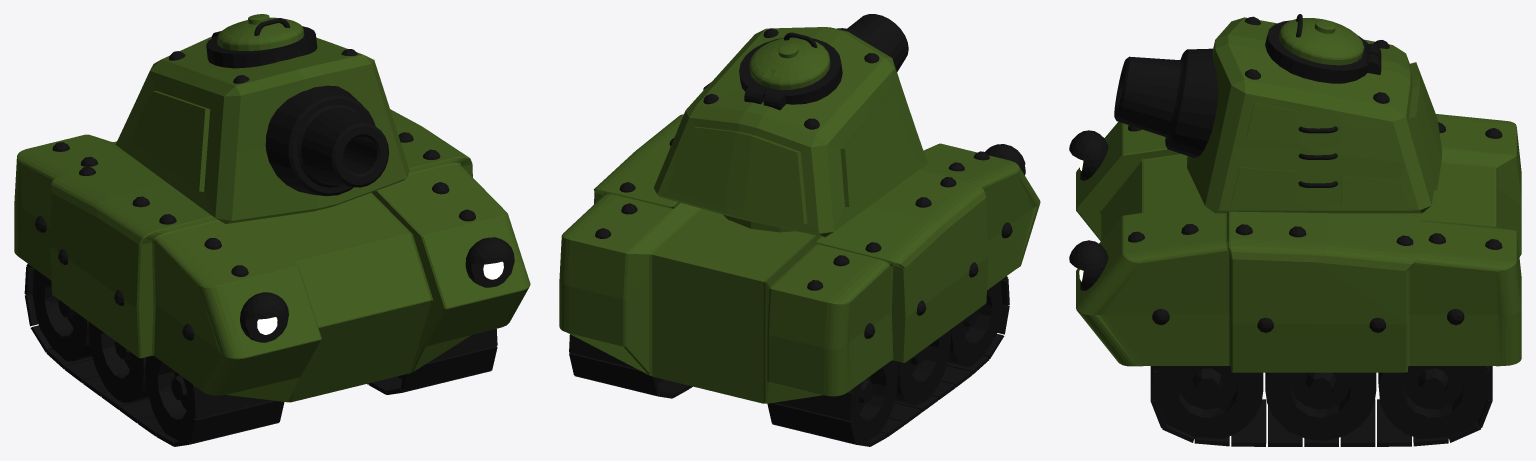
Rendered from tank_1_green.gltf.
3 renders of one model, left to right at view 1: azimuth 30°, elevation 25°; view 2: azimuth 150°, elevation 25°; view 3: azimuth 270°, elevation 25°, orthographic. The views are drawn at different scales.
Visible parts, largest first — view 1: Base.018, Turret.018, Canon.018, Tracks.017, Wheels.032, Entrance.018, Lights.010, Bolts.009; view 2: Base.018, Turret.018, Tracks.017, Wheels.032, Entrance.018, Bolts.009, Canon.018, Lights.010, Bolts.010; view 3: Base.018, Turret.018, Wheels.032, Canon.018, Entrance.018, Tracks.017, Lights.010, Bolts.009, Ladder.017, Bolts.010.
Boxes of the visible parts, x1,y1,x2,y2 form: Base.018: [14, 109, 530, 402]; Turret.018: [115, 36, 409, 223]; Canon.018: [265, 85, 388, 196]; Tracks.017: [24, 264, 497, 446]; Wheels.032: [32, 269, 403, 441]; Entrance.018: [206, 14, 317, 68]; Lights.010: [240, 237, 514, 342]; Bolts.009: [35, 132, 475, 340]; Base.018: [559, 114, 1040, 403]; Turret.018: [653, 27, 927, 237]; Tracks.017: [569, 276, 1009, 446]; Wheels.032: [656, 280, 1002, 441]; Entrance.018: [739, 32, 842, 110]; Bolts.009: [595, 138, 1012, 338]; Canon.018: [837, 14, 908, 71]; Lights.010: [985, 144, 1025, 175]; Bolts.010: [703, 28, 879, 129]; Base.018: [1076, 114, 1521, 372]; Turret.018: [1187, 17, 1441, 213]; Wheels.032: [1155, 366, 1487, 440]; Canon.018: [1114, 48, 1218, 157]; Entrance.018: [1265, 14, 1381, 83]; Tracks.017: [1150, 366, 1492, 446]; Lights.010: [1069, 130, 1108, 290]; Bolts.009: [1128, 122, 1502, 332]; Ladder.017: [1298, 126, 1337, 187]; Bolts.010: [1244, 16, 1389, 103].
Bounding box in the file's own units: 1.55 × 1.51 × 1.75.
